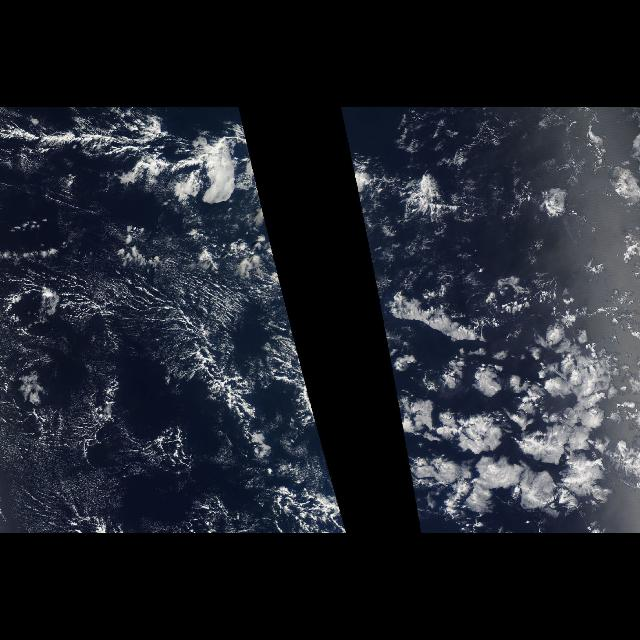Flower: (373, 273, 639, 529)
Gravel: (6, 249, 286, 533)
Sugar: (9, 370, 111, 506)
